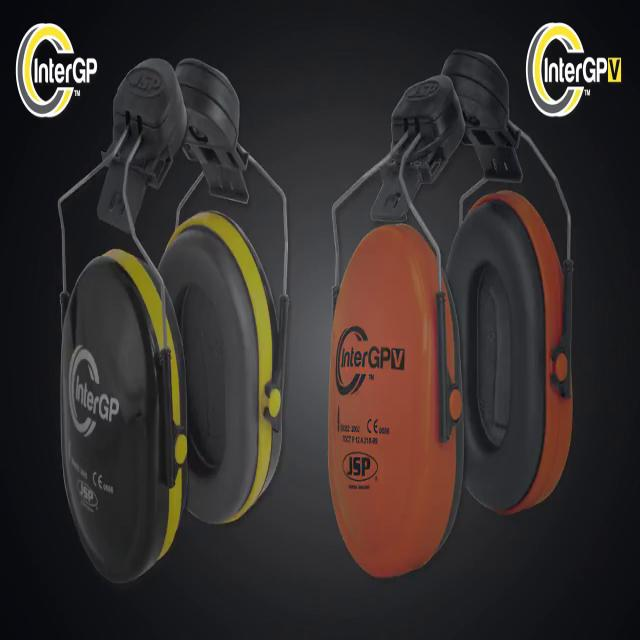earmuff: (325, 215, 466, 584), (56, 243, 192, 594), (441, 187, 579, 526), (151, 206, 286, 534)
